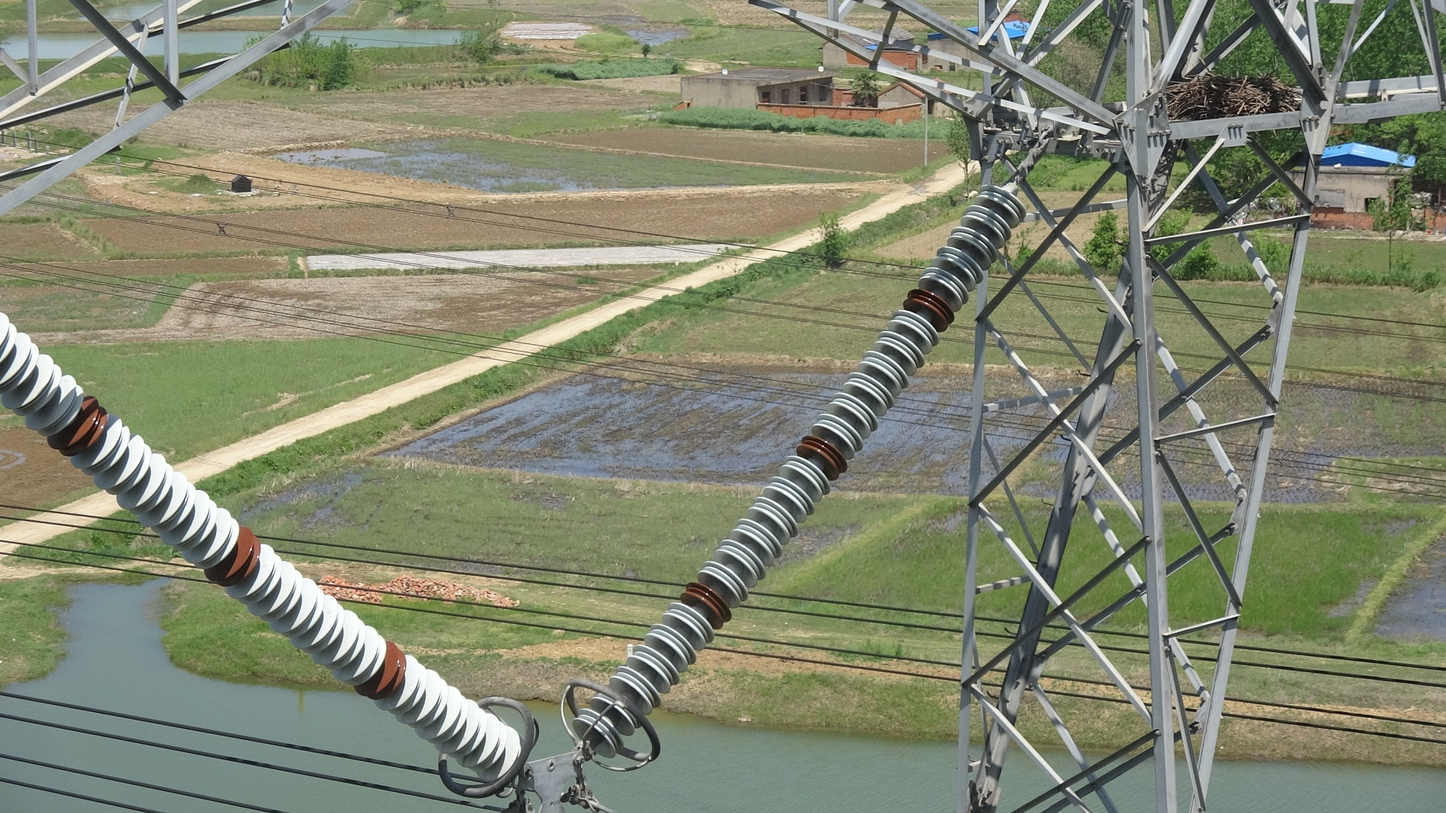insulator: (563, 179, 1033, 762), (1, 303, 529, 790)
